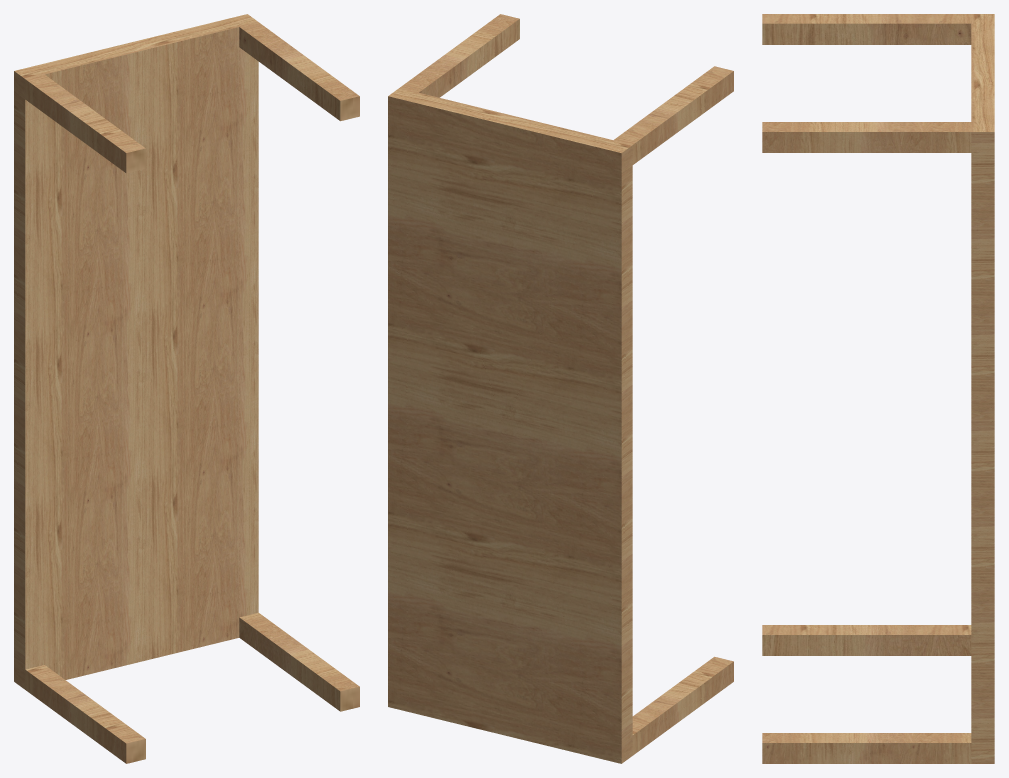
The model's file is Table300x100 1.fbx.
3 views of the same model, side by side, from view 1: azimuth 30°, elevation 25°; view 2: azimuth 150°, elevation 25°; view 3: azimuth 270°, elevation 25° (orthographic). The views are drawn at different scales.
Visible parts, largest first — view 1: table300x100; view 2: table300x100; view 3: table300x100.
Part boxes in pixels (x1=…): table300x100: x1=14, y1=14, x2=359, y2=763; table300x100: x1=388, y1=14, x2=733, y2=763; table300x100: x1=762, y1=14, x2=994, y2=763.
Bounding box in the file's own units: 12000 × 30000 × 10000.
